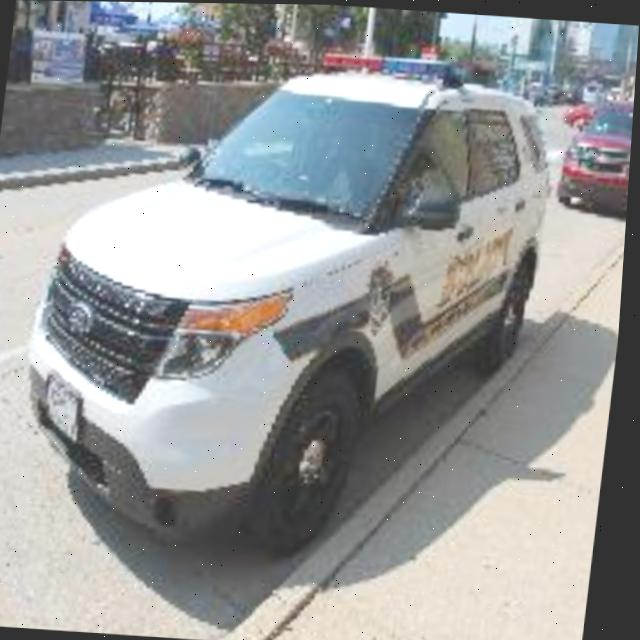emergency: (0, 35, 599, 545)
